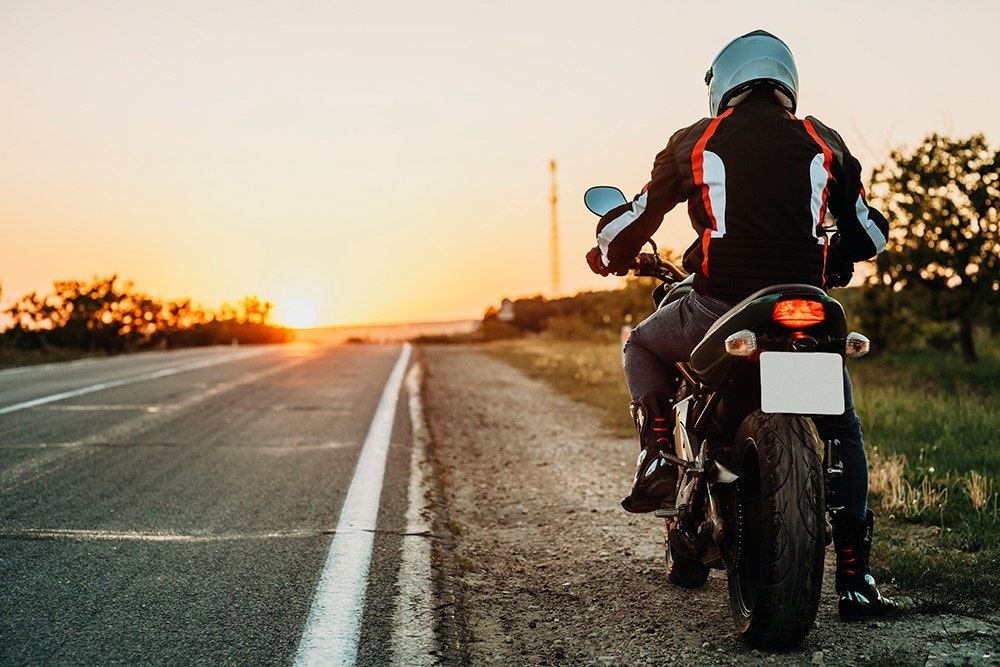Motorcycle: (576, 186, 899, 646)
